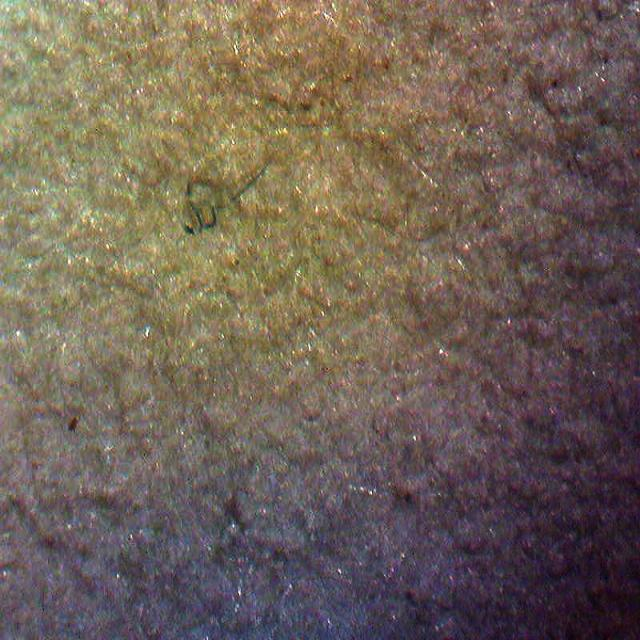microplastic: (176, 167, 279, 243)
